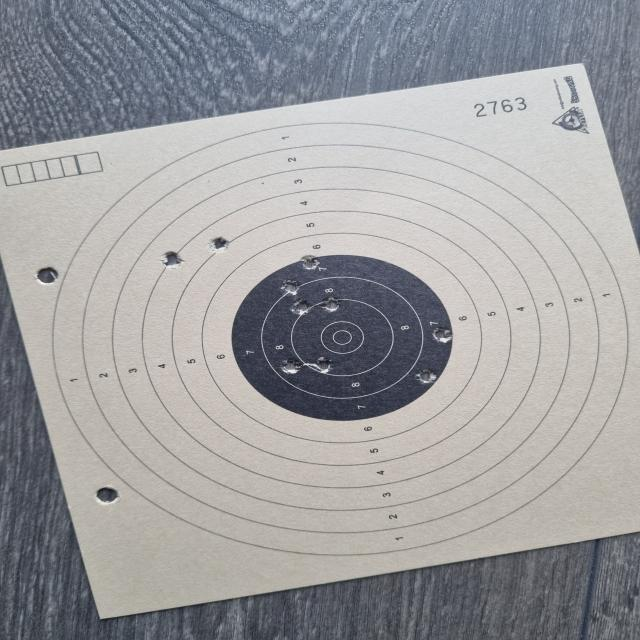4: (160, 250, 185, 270)
5: (208, 236, 232, 252)
7: (431, 326, 455, 345), (296, 254, 320, 271), (414, 368, 438, 385)
8: (278, 277, 302, 297), (280, 358, 302, 373)
9: (307, 356, 335, 374), (289, 298, 314, 316), (319, 296, 343, 312)
Target: (54, 124, 626, 556)
black_contour: (233, 254, 452, 420)
